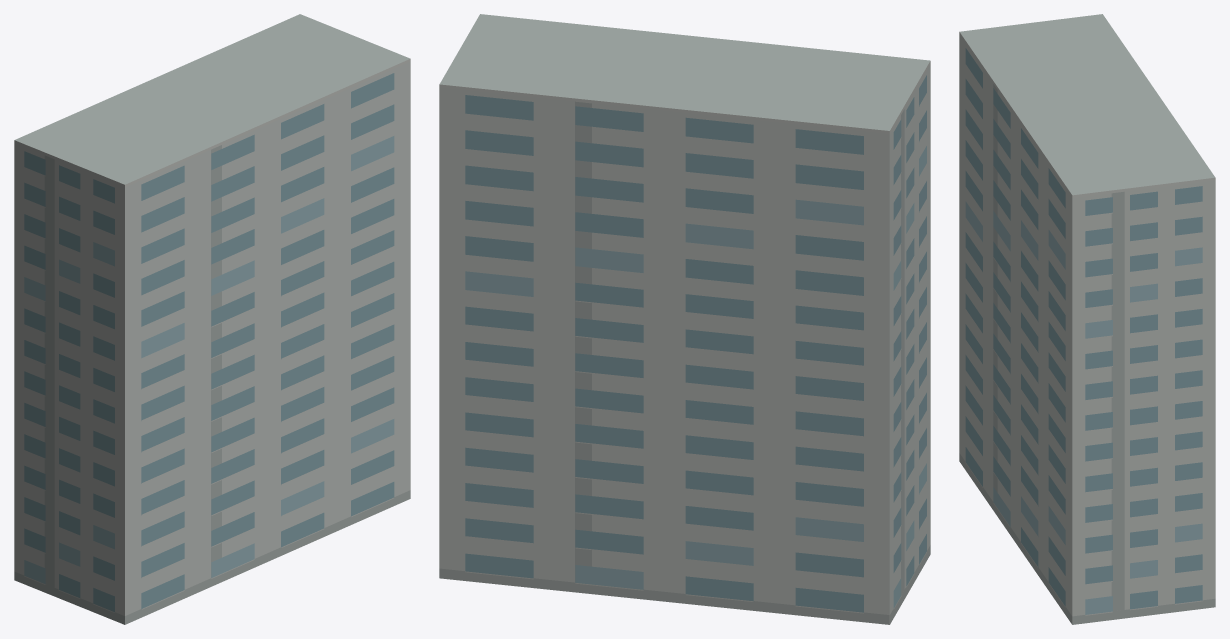
Rendered from residential-bee4df36-880a-4b15-b467-c3276fbc6c06.glb.
3 views of the same model, side by side, from view 1: azimuth 30°, elevation 25°; view 2: azimuth 150°, elevation 25°; view 3: azimuth 270°, elevation 25° (orthographic). The views are drawn at different scales.
Parts seen in each view (by area): view 1: residential-bee4df36-880a-4b15-b467-c3276fbc6c06.tmp; view 2: residential-bee4df36-880a-4b15-b467-c3276fbc6c06.tmp; view 3: residential-bee4df36-880a-4b15-b467-c3276fbc6c06.tmp.
Part boxes in pixels (left/top/right/bottom): residential-bee4df36-880a-4b15-b467-c3276fbc6c06.tmp: left=14, top=14, right=410, bottom=624; residential-bee4df36-880a-4b15-b467-c3276fbc6c06.tmp: left=439, top=14, right=930, bottom=624; residential-bee4df36-880a-4b15-b467-c3276fbc6c06.tmp: left=959, top=14, right=1215, bottom=624.
Bounding box in the file's own units: 33.5 × 37 × 20.
